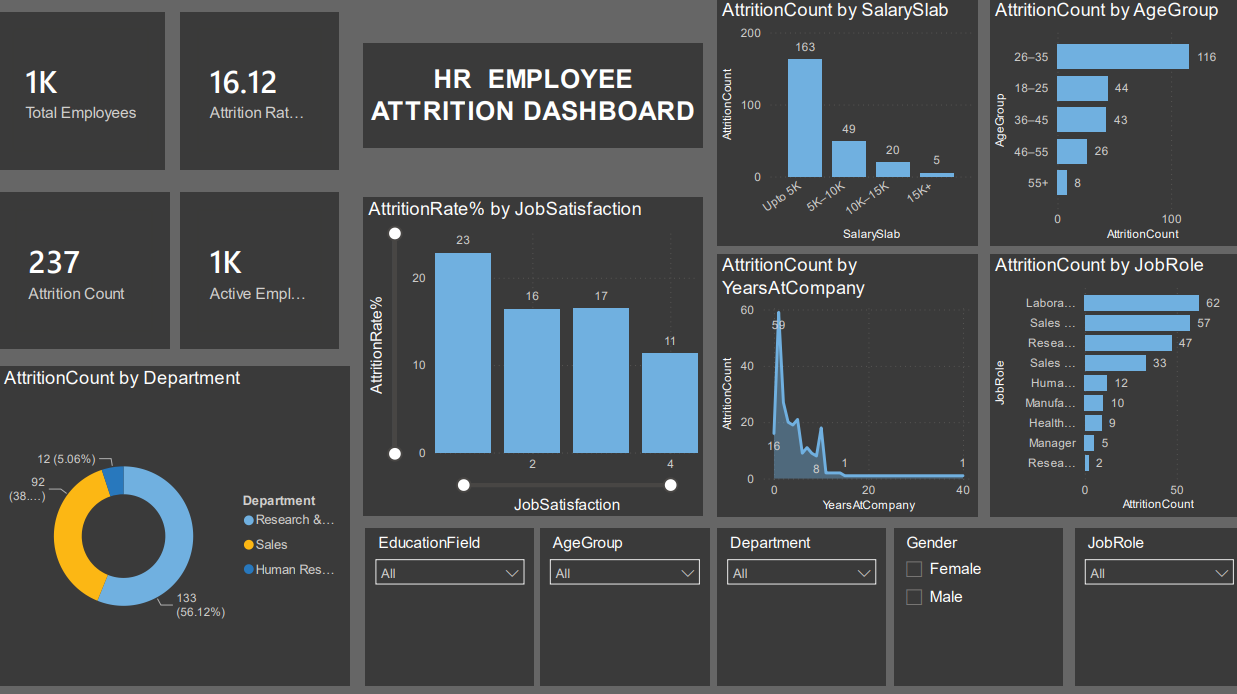

What the dashboard file says about the page in this screenshot:
{"tool":"powerbi","page":{"name":"Page 1","canvas":[1280,720],"ordinal":0},"visuals":[{"type":"cardVisual","fields":{"Data":["HR-Employee-Attrition-Dataset.TotalEmployees"]},"box":[0,14.3,173.4,160.7],"z":0},{"type":"cardVisual","fields":{"Data":["HR-Employee-Attrition-Dataset.AttritionCount"]},"box":[3.2,198.8,175,160.7],"z":1000},{"type":"cardVisual","fields":{"Data":["HR-Employee-Attrition-Dataset.AttritionRate%"]},"box":[189.3,14.3,162.2,160.7],"z":2000},{"type":"cardVisual","fields":{"Data":["HR-Employee-Attrition-Dataset.ActiveEmployees"]},"box":[189.3,198.8,162.2,160.7],"z":3000},{"type":"donutChart","fields":{"Category":["HR-Employee-Attrition-Dataset.Department"],"Y":["HR-Employee-Attrition-Dataset.AttritionCount"]},"box":[3.2,377,359.5,327.7],"z":4000},{"type":"clusteredColumnChart","fields":{"Category":["HR-Employee-Attrition-Dataset.SalarySlab"],"Y":["HR-Employee-Attrition-Dataset.AttritionCount"]},"box":[739.6,0,267.2,254.5],"z":5000},{"type":"columnChart","fields":{"Category":["HR-Employee-Attrition-Dataset.JobSatisfaction"],"Y":["HR-Employee-Attrition-Dataset.AttritionRate%"]},"box":[377,203.6,348.3,327.7],"z":6000},{"type":"lineChart","fields":{"Category":["HR-Employee-Attrition-Dataset.YearsAtCompany"],"Y":["HR-Employee-Attrition-Dataset.AttritionCount"]},"box":[739.6,262.5,267.2,268.8],"z":7000},{"type":"clusteredBarChart","fields":{"Category":["HR-Employee-Attrition-Dataset.JobRole"],"Y":["HR-Employee-Attrition-Dataset.AttritionCount"]},"box":[1019.6,262.5,260.9,268.8],"z":8000},{"type":"clusteredBarChart","fields":{"Category":["HR-Employee-Attrition-Dataset.AgeGroup"],"Y":["HR-Employee-Attrition-Dataset.AttritionCount"]},"box":[1019.6,0,260.9,254.5],"z":9000},{"type":"slicer","fields":{"Values":["HR-Employee-Attrition-Dataset.EducationField"]},"box":[378.6,544,173.4,160.7],"z":10000},{"type":"slicer","fields":{"Values":["HR-Employee-Attrition-Dataset.Gender"]},"box":[921,544,173.4,160.7],"z":11000},{"type":"slicer","fields":{"Values":["HR-Employee-Attrition-Dataset.Department"]},"box":[739.6,544,173.4,160.7],"z":12000},{"type":"slicer","fields":{"Values":["HR-Employee-Attrition-Dataset.JobRole"]},"box":[1107.1,544,173.4,160.7],"z":13000},{"type":"slicer","fields":{"Values":["HR-Employee-Attrition-Dataset.AgeGroup"]},"box":[558.3,544,173.4,160.7],"z":14000},{"type":"textbox","box":[377,46.1,348.3,106.6],"z":15000}]}

Visuals, with their boxes in screenshot pixels (x1, y1, x2, y2), scaled from the page's 1280x720 canvas onto the 1237x694 screenshot:
cardVisual - HR-Employee-Attrition-Dataset.TotalEmployees: (0,14,168,169)
cardVisual - HR-Employee-Attrition-Dataset.AttritionCount: (3,192,172,347)
cardVisual - HR-Employee-Attrition-Dataset.AttritionRate%: (183,14,340,169)
cardVisual - HR-Employee-Attrition-Dataset.ActiveEmployees: (183,192,340,347)
donutChart - HR-Employee-Attrition-Dataset.Department x HR-Employee-Attrition-Dataset.AttritionCount: (3,363,351,679)
clusteredColumnChart - HR-Employee-Attrition-Dataset.SalarySlab x HR-Employee-Attrition-Dataset.AttritionCount: (715,0,973,245)
columnChart - HR-Employee-Attrition-Dataset.JobSatisfaction x HR-Employee-Attrition-Dataset.AttritionRate%: (364,196,701,512)
lineChart - HR-Employee-Attrition-Dataset.YearsAtCompany x HR-Employee-Attrition-Dataset.AttritionCount: (715,253,973,512)
clusteredBarChart - HR-Employee-Attrition-Dataset.JobRole x HR-Employee-Attrition-Dataset.AttritionCount: (985,253,1236,512)
clusteredBarChart - HR-Employee-Attrition-Dataset.AgeGroup x HR-Employee-Attrition-Dataset.AttritionCount: (985,0,1236,245)
slicer - HR-Employee-Attrition-Dataset.EducationField: (366,524,533,679)
slicer - HR-Employee-Attrition-Dataset.Gender: (890,524,1058,679)
slicer - HR-Employee-Attrition-Dataset.Department: (715,524,882,679)
slicer - HR-Employee-Attrition-Dataset.JobRole: (1070,524,1236,679)
slicer - HR-Employee-Attrition-Dataset.AgeGroup: (540,524,707,679)
textbox: (364,44,701,147)
